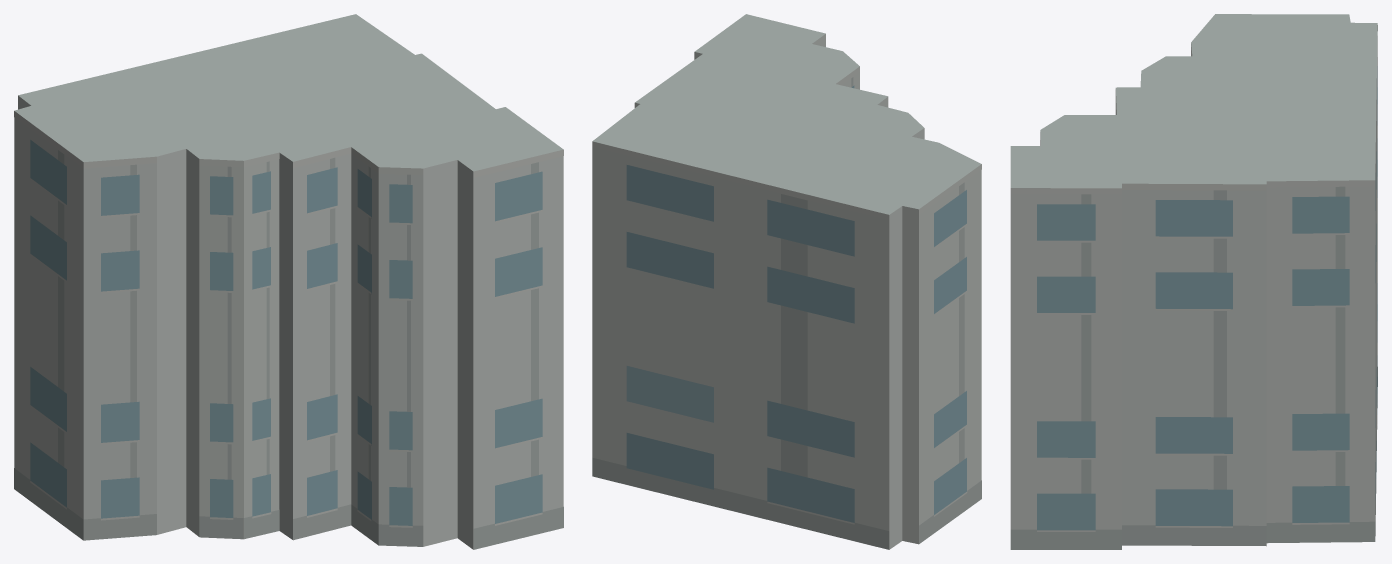
File: survey-upis-32576832.glb
3 renders of one model, left to right at view 1: azimuth 30°, elevation 25°; view 2: azimuth 150°, elevation 25°; view 3: azimuth 270°, elevation 25°, orthographic. The views are drawn at different scales.
Parts seen in each view (by area): view 1: survey-upis-32576832.tmp; view 2: survey-upis-32576832.tmp; view 3: survey-upis-32576832.tmp.
Part boxes in pixels (x1=…): survey-upis-32576832.tmp: x1=14, y1=14, x2=563, y2=549; survey-upis-32576832.tmp: x1=592, y1=14, x2=981, y2=549; survey-upis-32576832.tmp: x1=1010, y1=14, x2=1377, y2=549.
Size of the model in its own units: 14.58 by 14.1 by 12.99.
